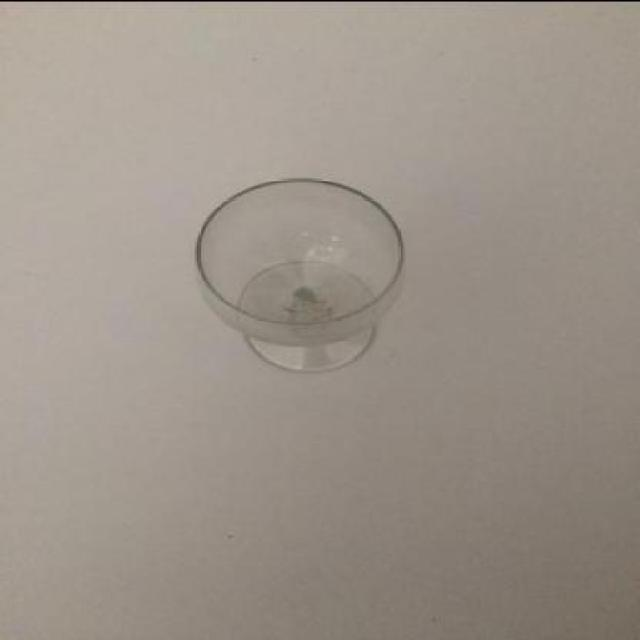glass: (194, 175, 406, 371)
